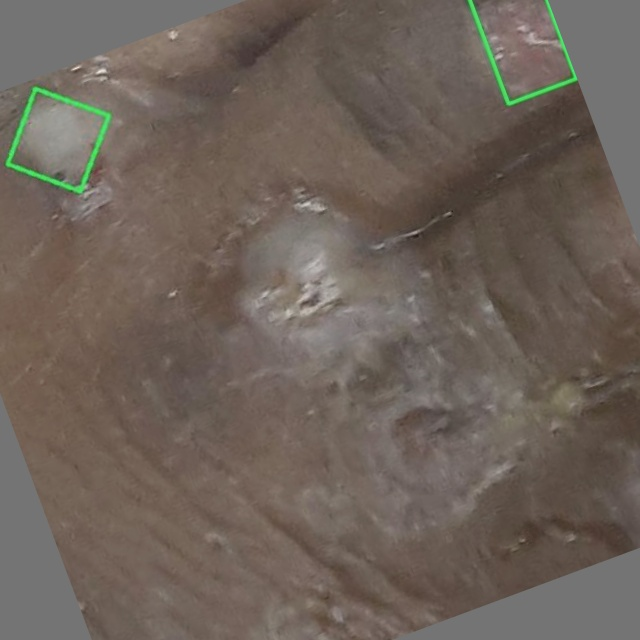Eczema: (470, 0, 576, 103), (7, 89, 108, 191)
